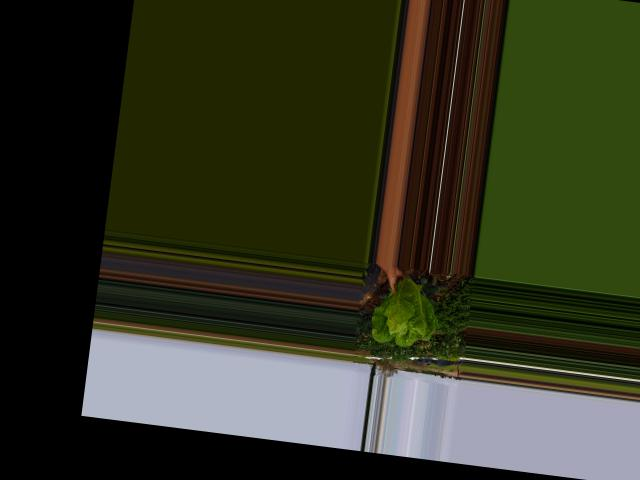lettuce: (365, 269, 445, 351)
